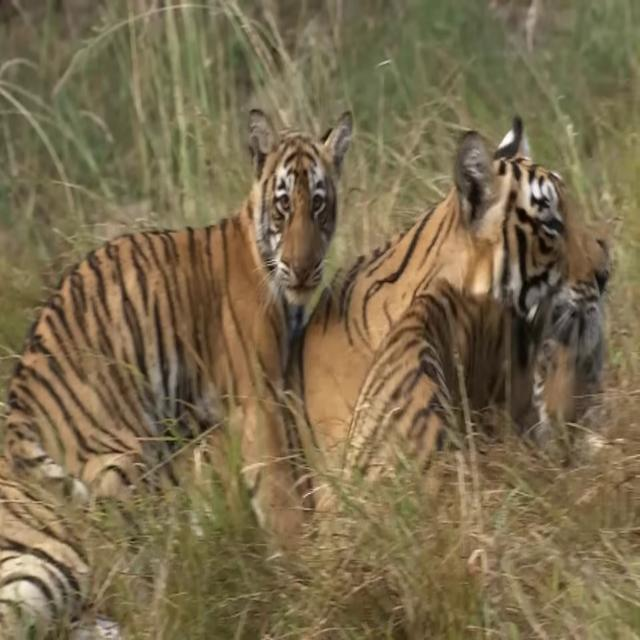tiger: (0, 103, 353, 640), (293, 113, 609, 459)
